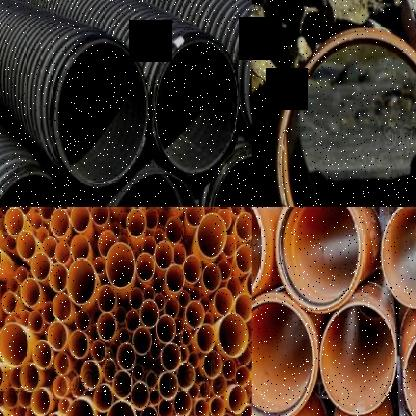pipe: (275, 31, 416, 207), (57, 41, 148, 185), (155, 39, 240, 174), (275, 207, 361, 311), (320, 303, 396, 416), (251, 302, 315, 416), (380, 207, 416, 309), (101, 172, 203, 207), (0, 173, 72, 207), (207, 153, 252, 207), (66, 258, 96, 306), (106, 242, 136, 289), (218, 313, 248, 358), (197, 212, 226, 258), (402, 322, 416, 416), (0, 323, 28, 367), (164, 264, 186, 294), (19, 278, 40, 308), (161, 342, 182, 372), (135, 253, 156, 282), (47, 322, 68, 351), (52, 292, 72, 322), (185, 300, 205, 330), (32, 340, 52, 370), (50, 208, 70, 238), (30, 251, 50, 280), (182, 255, 202, 284), (96, 312, 116, 341), (156, 314, 176, 343), (20, 363, 40, 392), (176, 362, 196, 390), (4, 207, 24, 235), (126, 209, 146, 237), (17, 231, 36, 260), (155, 241, 174, 270), (69, 329, 88, 358), (49, 262, 67, 292), (81, 360, 99, 390), (64, 398, 94, 416), (98, 230, 117, 258), (202, 264, 221, 292), (97, 284, 116, 312), (117, 342, 136, 370), (203, 351, 222, 379), (159, 372, 178, 400), (130, 382, 149, 410), (228, 386, 247, 414), (31, 388, 50, 416), (133, 326, 151, 355), (113, 371, 131, 400), (172, 390, 192, 416), (70, 207, 90, 233), (214, 288, 233, 315), (140, 300, 158, 328), (197, 324, 215, 352), (94, 384, 112, 412), (165, 216, 183, 244), (71, 233, 89, 260), (235, 244, 252, 272), (235, 294, 252, 322), (105, 401, 135, 416), (185, 207, 205, 228), (1, 290, 18, 314), (141, 235, 157, 258), (55, 241, 71, 264), (54, 352, 70, 375), (222, 234, 237, 258), (91, 207, 109, 227), (74, 310, 90, 332), (71, 375, 86, 398), (217, 259, 232, 281), (102, 360, 117, 382), (53, 376, 68, 398), (217, 208, 232, 230), (43, 236, 57, 259), (129, 287, 143, 310), (222, 358, 236, 381), (210, 396, 226, 416), (172, 244, 187, 265), (10, 366, 23, 390), (227, 276, 241, 298), (42, 302, 56, 324), (126, 310, 140, 332), (29, 311, 43, 333), (92, 340, 106, 362), (4, 387, 18, 409), (164, 298, 179, 318), (237, 346, 252, 366), (212, 376, 227, 396), (18, 388, 33, 408), (145, 208, 158, 230), (236, 366, 250, 386), (157, 399, 173, 416), (195, 398, 210, 416), (178, 290, 190, 309), (58, 397, 70, 416), (153, 293, 166, 310), (180, 329, 193, 345), (145, 372, 158, 388), (5, 235, 17, 252), (93, 257, 105, 274), (199, 296, 211, 313), (118, 327, 130, 344), (31, 213, 43, 230), (115, 306, 126, 324), (150, 341, 161, 359), (139, 405, 157, 416), (40, 207, 55, 220), (16, 267, 28, 283), (188, 352, 200, 368), (199, 382, 211, 398), (153, 228, 165, 244), (108, 343, 119, 360), (133, 364, 144, 381), (188, 383, 199, 400), (158, 210, 169, 227), (37, 227, 48, 244), (152, 278, 164, 293), (7, 277, 18, 293), (91, 308, 102, 324), (19, 311, 30, 327), (47, 370, 58, 386), (149, 390, 160, 406), (174, 318, 184, 335), (89, 324, 99, 341), (179, 345, 189, 362), (246, 270, 252, 298), (143, 286, 154, 301), (120, 212, 129, 230), (23, 406, 39, 416), (110, 222, 120, 238), (190, 287, 201, 301), (142, 357, 153, 371), (73, 360, 84, 374), (117, 234, 129, 246), (5, 314, 17, 325), (15, 404, 26, 416), (0, 283, 7, 299), (16, 207, 31, 214), (230, 207, 242, 215), (203, 207, 216, 214), (0, 362, 3, 391), (0, 206, 8, 214), (248, 393, 252, 408), (46, 413, 62, 416), (0, 407, 5, 416), (219, 413, 234, 416), (0, 244, 1, 274)
